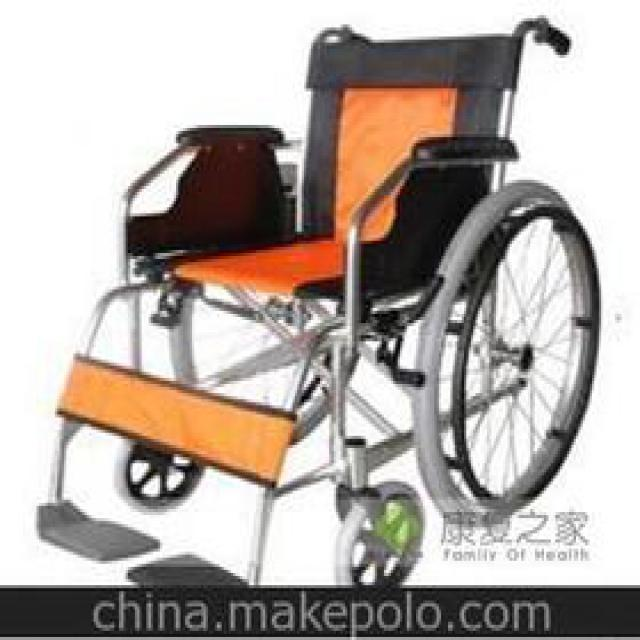wheelchair: (27, 21, 638, 561)
